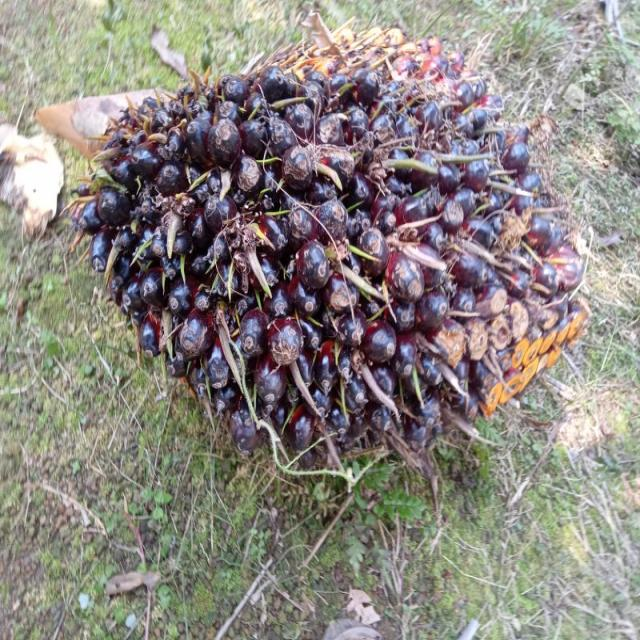fraksi 00: (66, 44, 594, 479)
